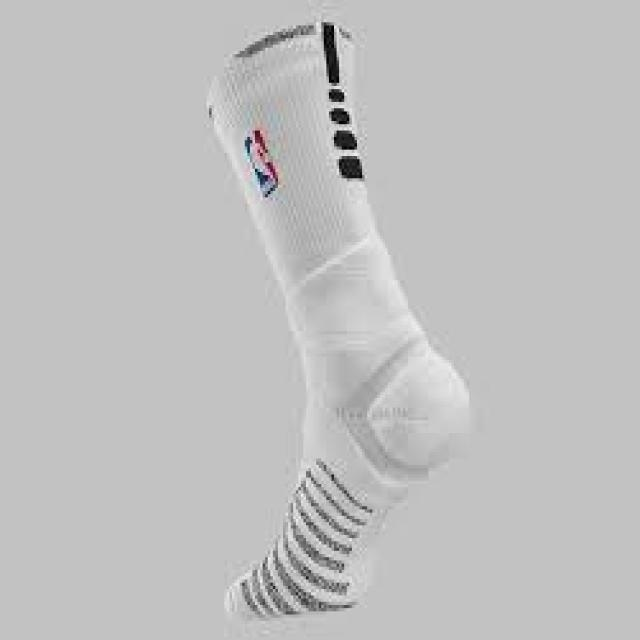sock: (204, 16, 472, 621)
